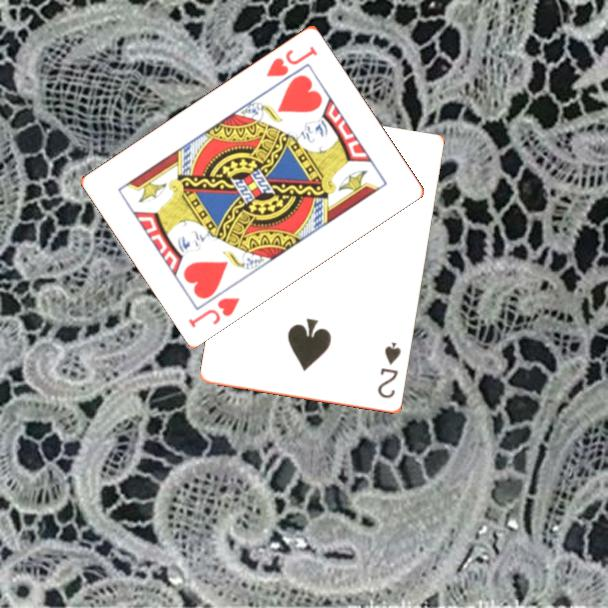h11: (263, 42, 321, 79), (185, 293, 243, 330)
s02: (374, 339, 404, 402)
